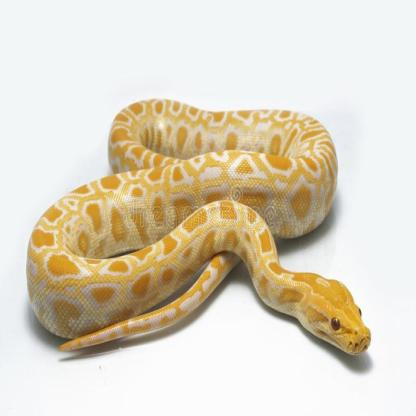Snake: (20, 95, 372, 364)
